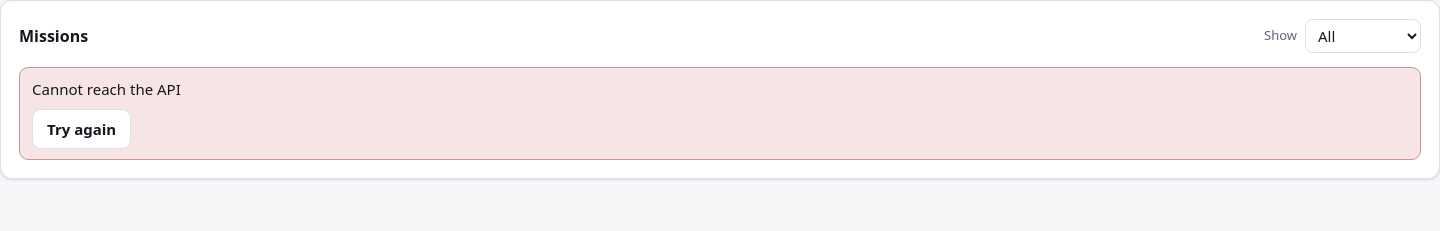
it: MissionList › shows an error with a way to retry
Expected: the message shows "Cannot reach the API", [32,79,181,99]
Click the button "Try again". click: [82, 129]
box: [32,108,131,149]
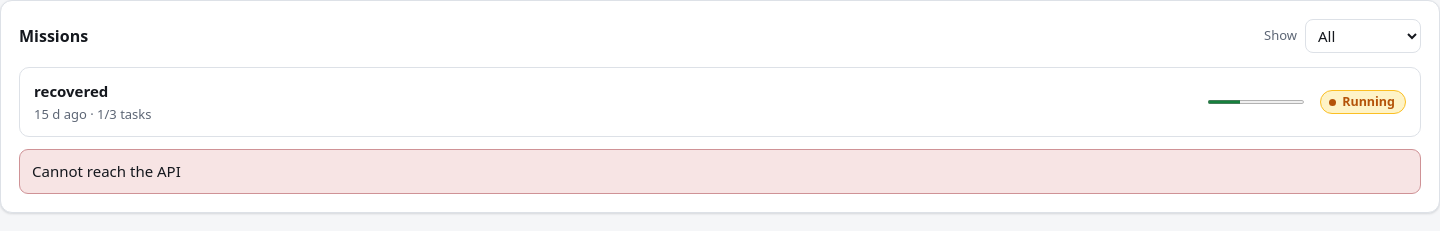
Now the text "recovered" is shown, box [34,81,108,101]
